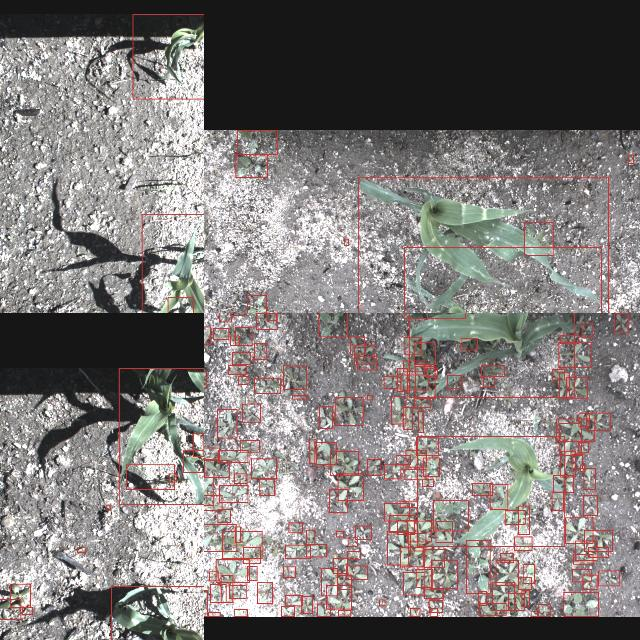crop: (358, 177, 608, 313), (416, 436, 564, 546), (408, 313, 573, 397), (403, 247, 600, 313), (118, 367, 204, 504), (141, 214, 204, 313), (132, 13, 204, 98), (111, 586, 204, 640), (167, 297, 192, 313)
weed: (465, 540, 489, 594), (126, 464, 174, 490), (222, 531, 262, 559), (432, 501, 468, 532), (236, 130, 276, 154), (524, 222, 552, 254), (562, 592, 598, 616), (204, 524, 235, 551), (556, 419, 594, 441), (558, 342, 590, 366), (336, 397, 362, 425), (431, 560, 457, 588), (564, 518, 592, 544), (387, 531, 408, 565), (235, 154, 267, 176), (559, 423, 581, 455), (216, 560, 248, 582), (329, 451, 358, 475), (317, 313, 346, 336), (338, 474, 362, 501), (415, 366, 435, 398), (584, 530, 612, 552), (492, 583, 514, 611), (216, 409, 236, 438), (282, 365, 306, 389), (326, 585, 350, 609), (495, 560, 517, 586), (406, 520, 432, 542), (250, 459, 276, 479), (182, 450, 204, 472), (314, 442, 336, 464), (10, 584, 30, 608), (218, 486, 248, 502), (403, 572, 423, 596), (489, 484, 507, 510), (204, 460, 229, 478), (390, 396, 406, 424), (400, 374, 428, 390), (321, 568, 337, 596), (400, 547, 422, 567), (415, 436, 437, 456), (414, 342, 434, 364), (329, 489, 347, 513), (586, 412, 610, 430), (384, 503, 408, 521), (254, 378, 280, 394), (388, 516, 414, 532), (353, 344, 373, 364), (576, 541, 596, 561), (566, 378, 586, 398), (0, 600, 19, 620), (560, 451, 574, 477), (217, 450, 247, 462), (424, 549, 444, 567), (256, 582, 272, 604), (246, 295, 265, 313), (422, 458, 440, 477), (405, 449, 425, 466), (242, 404, 260, 422), (234, 327, 252, 345), (553, 476, 573, 492), (435, 522, 451, 542), (256, 313, 276, 329), (479, 604, 505, 616), (284, 546, 310, 558), (220, 576, 232, 602), (318, 406, 332, 428), (404, 336, 421, 354), (192, 432, 204, 456), (242, 547, 260, 563), (416, 570, 432, 588), (210, 585, 226, 603), (356, 356, 376, 370), (583, 496, 597, 516), (598, 572, 618, 586), (504, 511, 524, 525), (518, 506, 528, 534), (346, 566, 366, 580), (558, 372, 568, 398), (507, 594, 523, 610), (258, 479, 274, 495), (204, 495, 221, 510), (613, 313, 627, 331), (350, 336, 364, 354), (583, 468, 595, 489), (514, 537, 532, 551), (410, 533, 424, 551), (396, 521, 414, 535), (204, 477, 213, 505), (228, 585, 246, 599), (403, 468, 425, 479), (239, 440, 259, 452), (472, 484, 492, 496), (397, 368, 407, 392), (306, 545, 326, 557), (402, 361, 423, 372), (481, 366, 504, 376), (551, 492, 563, 511), (384, 465, 400, 479), (355, 526, 371, 540), (582, 574, 596, 590), (333, 558, 347, 574), (402, 407, 412, 429), (300, 596, 312, 614), (572, 570, 590, 582), (231, 352, 249, 364), (572, 554, 592, 564), (588, 547, 608, 557), (524, 564, 534, 584), (446, 374, 460, 388), (337, 576, 351, 590), (253, 343, 265, 359), (308, 440, 316, 464), (368, 459, 380, 475), (423, 589, 442, 599), (284, 596, 302, 606), (460, 338, 476, 349), (212, 328, 228, 339), (428, 601, 442, 613), (246, 566, 256, 582), (414, 398, 430, 408), (316, 604, 329, 616), (217, 510, 230, 522), (204, 447, 218, 458), (560, 335, 578, 343), (384, 376, 396, 388), (538, 605, 550, 617), (518, 578, 530, 590), (228, 366, 246, 374), (582, 323, 592, 337), (396, 455, 410, 465), (280, 607, 294, 617), (578, 413, 588, 427), (571, 454, 581, 468), (288, 523, 302, 533), (521, 591, 529, 607), (306, 530, 314, 546), (482, 377, 493, 388), (283, 567, 295, 577), (551, 369, 563, 379), (234, 473, 246, 483), (478, 591, 486, 605), (204, 326, 210, 344), (399, 501, 417, 507), (346, 551, 359, 559), (578, 442, 588, 452), (426, 367, 436, 377), (500, 554, 512, 562), (218, 313, 230, 321), (234, 528, 240, 542), (21, 607, 31, 615), (409, 609, 419, 617), (418, 412, 422, 432), (237, 376, 247, 384), (230, 335, 238, 345), (208, 572, 218, 580), (234, 610, 246, 616), (348, 538, 357, 546), (338, 611, 350, 617), (422, 479, 432, 486), (168, 474, 176, 482), (429, 609, 437, 617), (266, 313, 275, 320), (292, 395, 306, 399), (208, 613, 220, 617), (335, 531, 343, 537), (628, 154, 632, 164), (366, 394, 372, 400), (378, 600, 384, 606), (580, 464, 584, 472), (229, 313, 244, 315), (343, 239, 347, 245), (106, 504, 110, 510), (78, 548, 84, 552), (530, 612, 536, 616)
